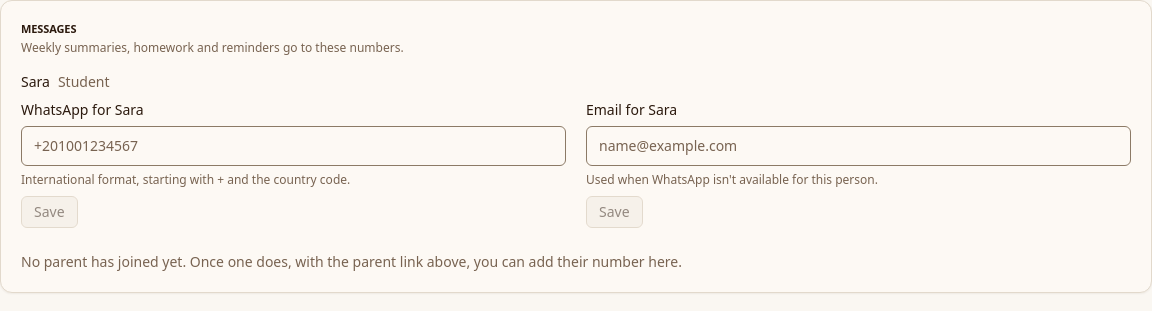
a refused number shows the server's reason and nothing is confirmed
Type "01001234567" into the field labelled "WhatsApp for Sara" at point(294, 146), box [21, 126, 566, 166]
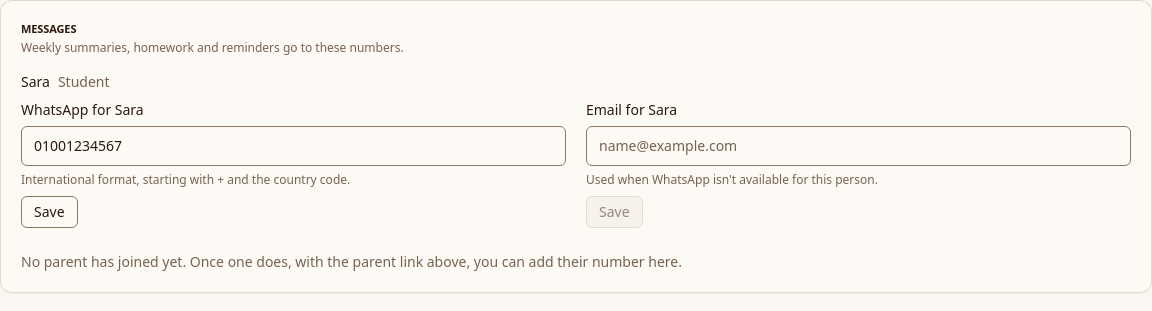
Submit the form labelled "WhatsApp for Sara", box [21, 100, 566, 228]
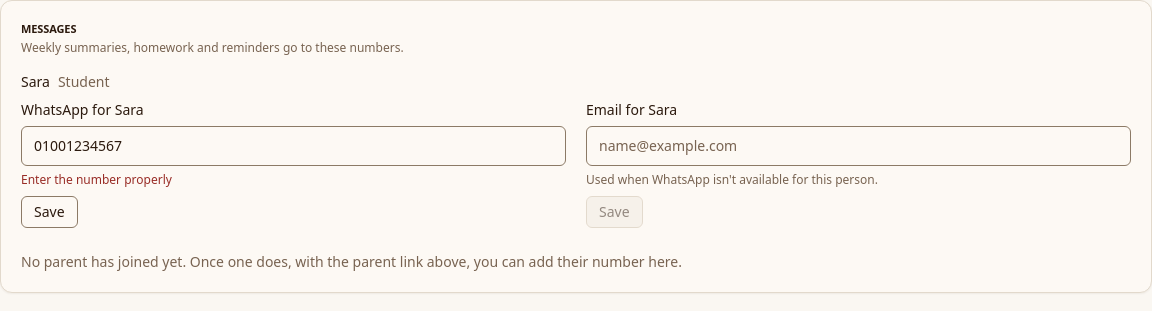
Expected: the text "No parent has joined yet" is shown, [21, 252, 682, 270]
Expected: the message reads "Enter the number properly", [21, 170, 172, 188]
